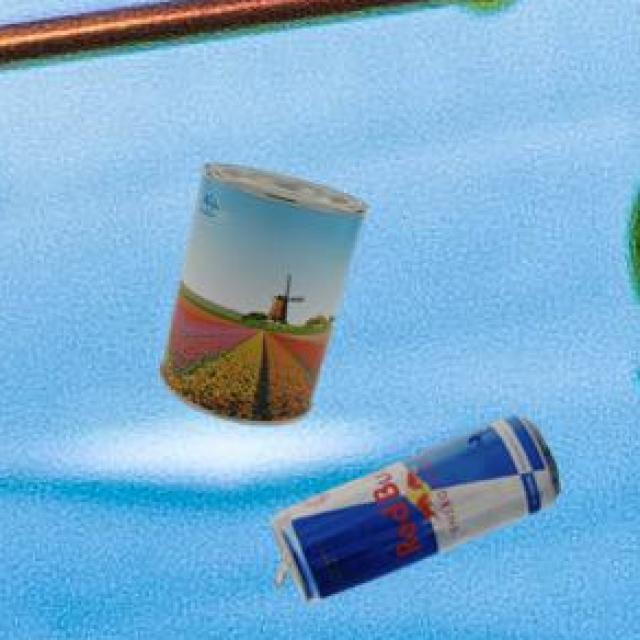logam: (163, 168, 372, 428), (275, 420, 562, 606)
